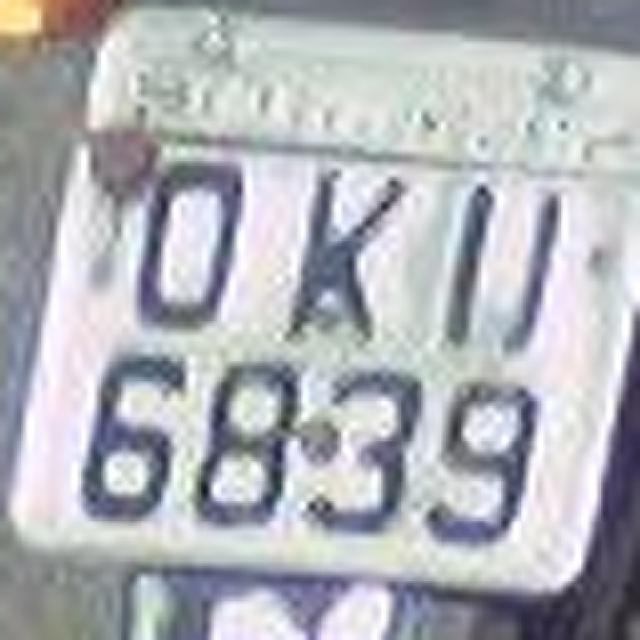3: (268, 344, 460, 551)
6: (49, 336, 216, 549)
8: (164, 340, 331, 555)
9: (400, 340, 575, 555)
J: (465, 156, 560, 376)
K: (264, 156, 396, 356)
O: (116, 148, 252, 348)
